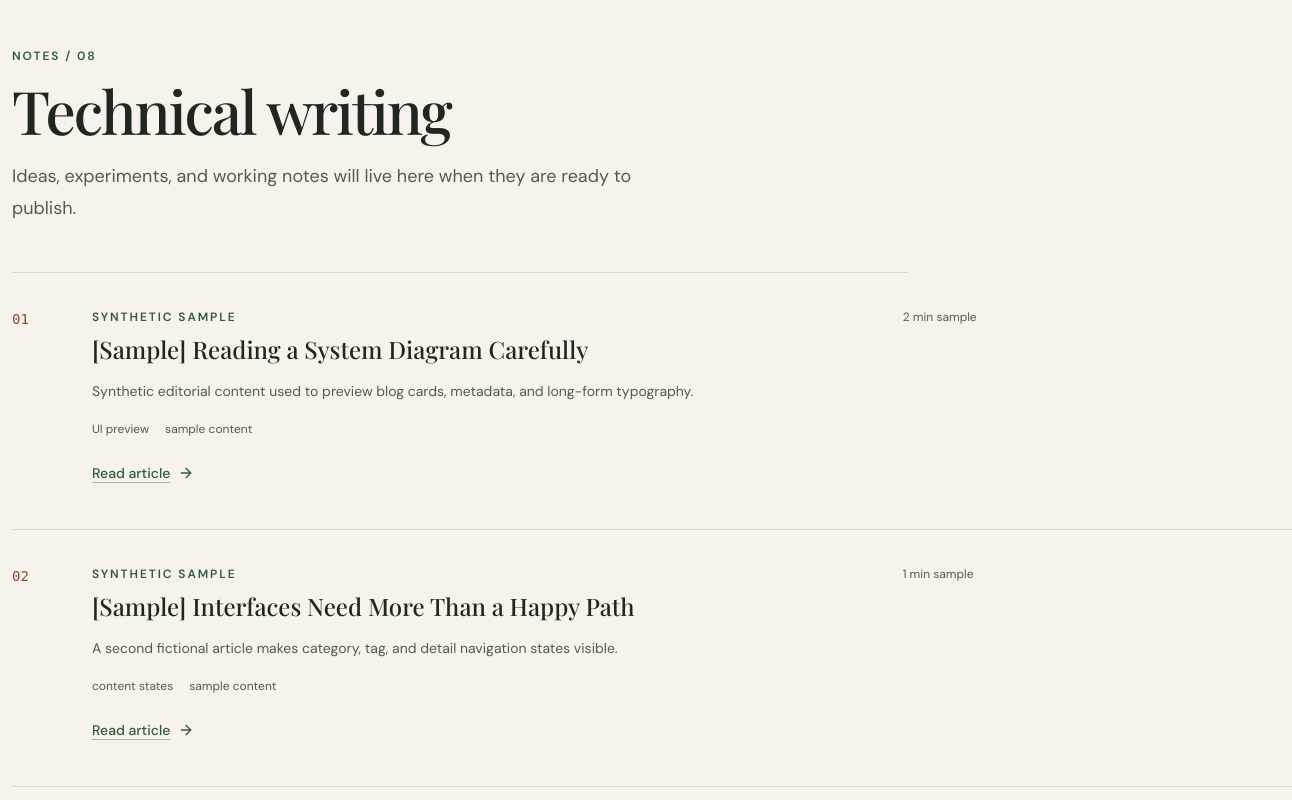
synthetic populated preview content › navigates from the sample blog list into long-form content without API requests
What coordinates should you click on to do the following:
click the link "[Sample] Reading a System Diagram Carefully"
I would click on:
 (340, 349)
Its box is x1=92 y1=333 x2=588 y2=365.
(page scrolled)
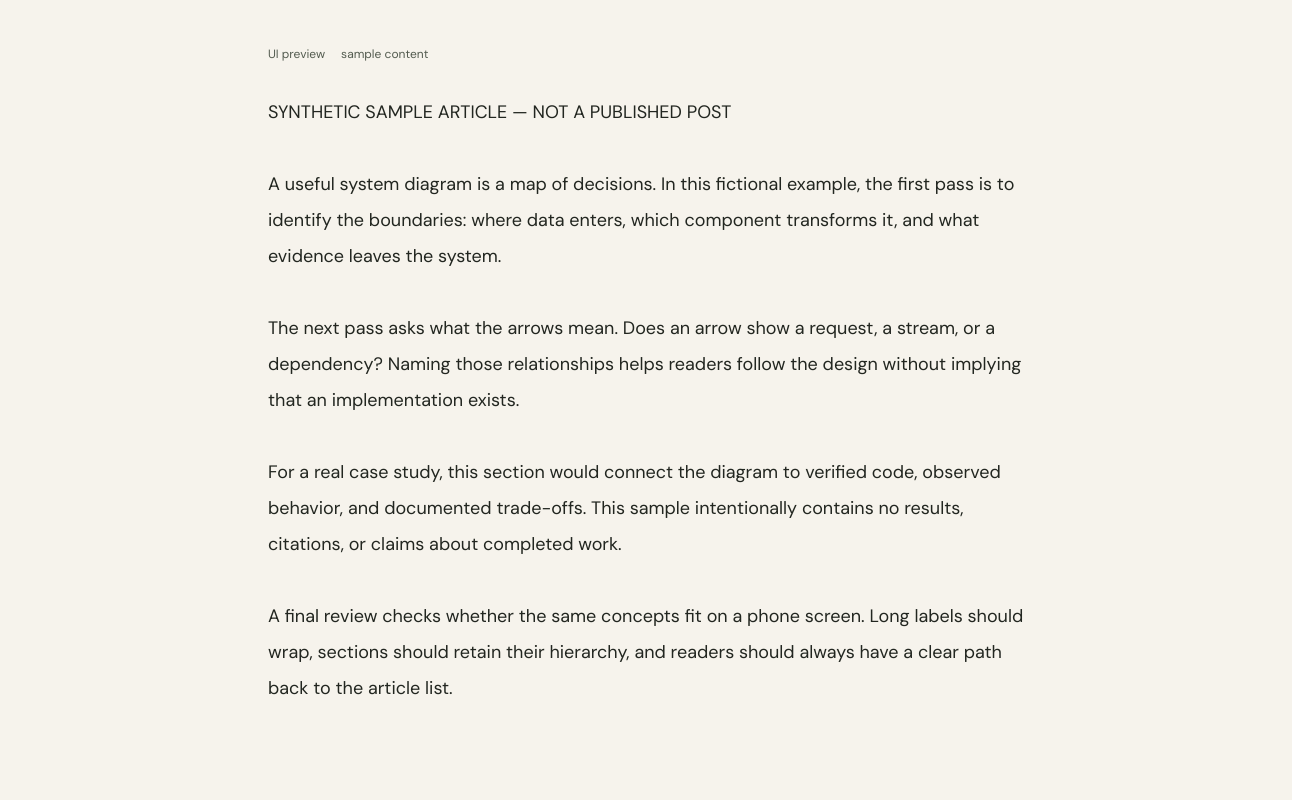
Expected: the text "A useful system diagram is a map of decisions" is shown, x1=268 y1=100 x2=1028 y2=700
